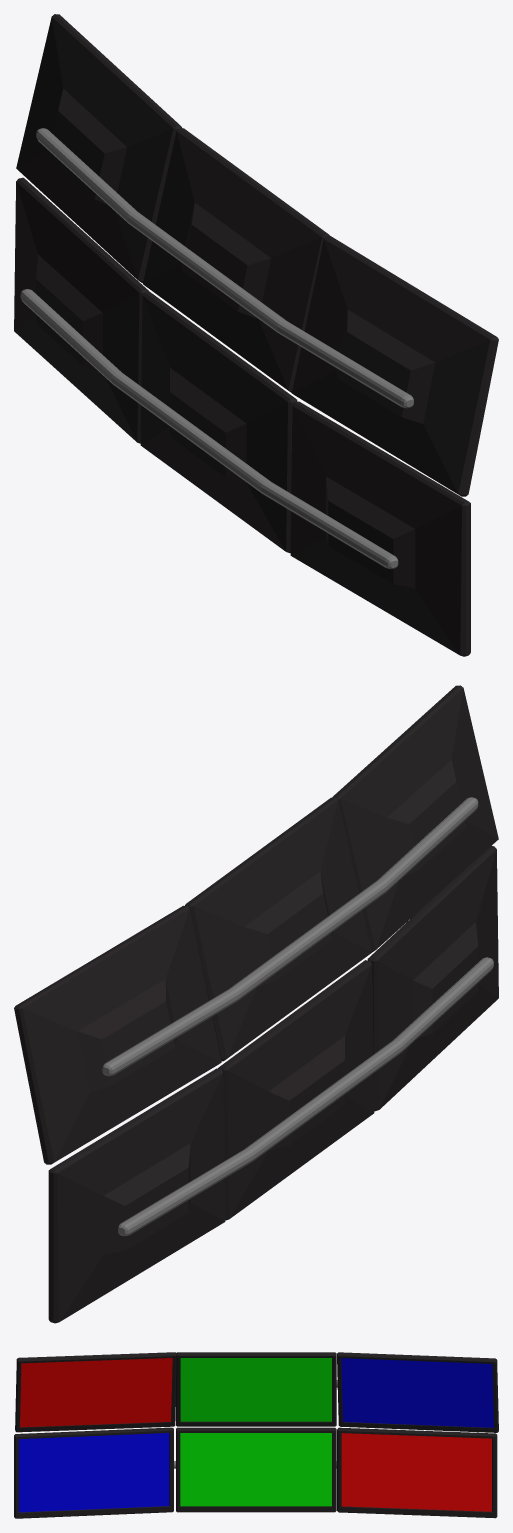
File: Monitor.fbx
The picture shows the model from 3 angles, top to bottom: view 1: azimuth 30°, elevation 25°; view 2: azimuth 150°, elevation 25°; view 3: azimuth 270°, elevation 25°; orthographic projection. The views are drawn at different scales.
Parts seen in each view (by area): view 1: Cube.006, Cube.002, Cube.005, Cube.007, Cube, Cube.003, Cube.001, Cube.004; view 2: Cube.007, Cube.003, Cube.005, Cube.006, Cube, Cube.002, Cube.004, Cube.001; view 3: Plane, Plane.002, Plane.001, Plane.004, Plane.005, Plane.003, Cube.003, Cube, Cube.002, Cube.007, Cube.005, Cube.006.
Part boxes in pixels (x1,y1,x2,y2): Cube.006: (292, 236, 498, 496); Cube.002: (290, 401, 470, 656); Cube.005: (142, 128, 329, 392); Cube.007: (16, 14, 182, 282); Cube: (140, 291, 297, 553); Cube.003: (14, 177, 149, 443); Cube.001: (20, 289, 398, 569); Cube.004: (36, 128, 413, 408); Cube.007: (14, 905, 221, 1164); Cube.003: (48, 1068, 225, 1323); Cube.005: (185, 797, 371, 1061); Cube.006: (332, 685, 498, 952); Cube: (218, 960, 374, 1220); Cube.002: (367, 846, 498, 1111); Cube.004: (102, 797, 478, 1076); Cube.001: (118, 957, 493, 1236); Plane: (180, 1433, 331, 1506); Plane.002: (341, 1433, 491, 1511); Plane.001: (19, 1433, 169, 1512); Plane.004: (20, 1358, 172, 1427); Plane.005: (341, 1358, 493, 1427); Plane.003: (180, 1358, 331, 1421); Cube.003: (337, 1427, 497, 1518); Cube: (176, 1427, 336, 1512); Cube.002: (14, 1427, 173, 1518); Cube.007: (337, 1352, 498, 1432); Cube.005: (176, 1352, 336, 1426); Cube.006: (15, 1352, 176, 1432).
Bounding box in the file's own units: 587 × 1824 × 4772.
